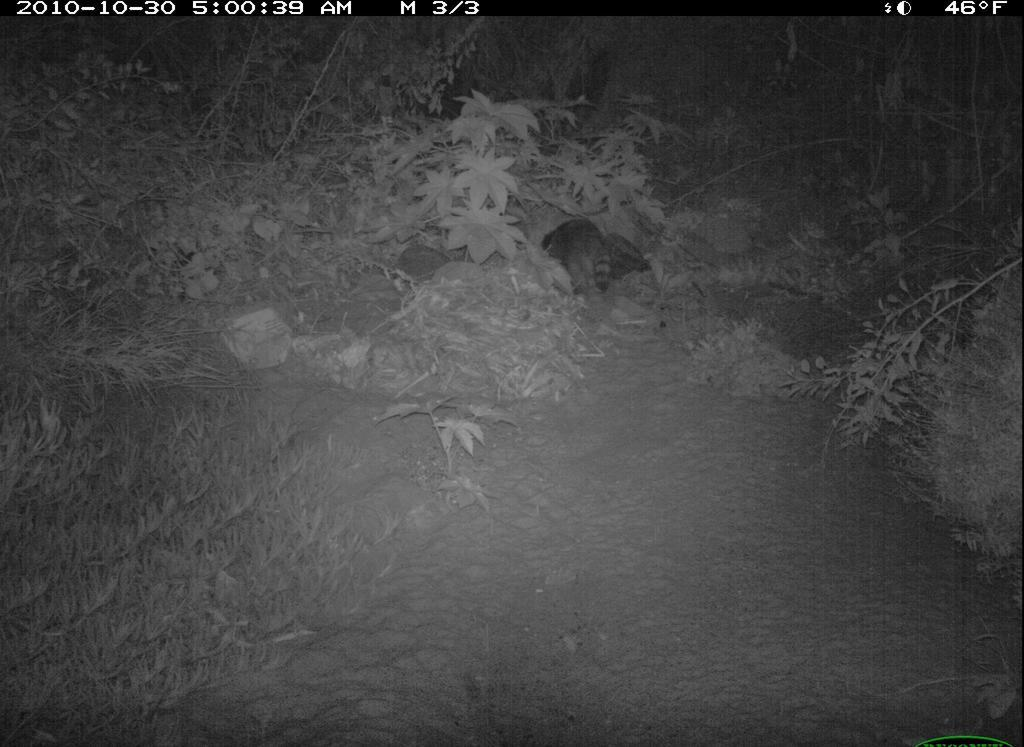raccoon: (537, 208, 628, 309)
